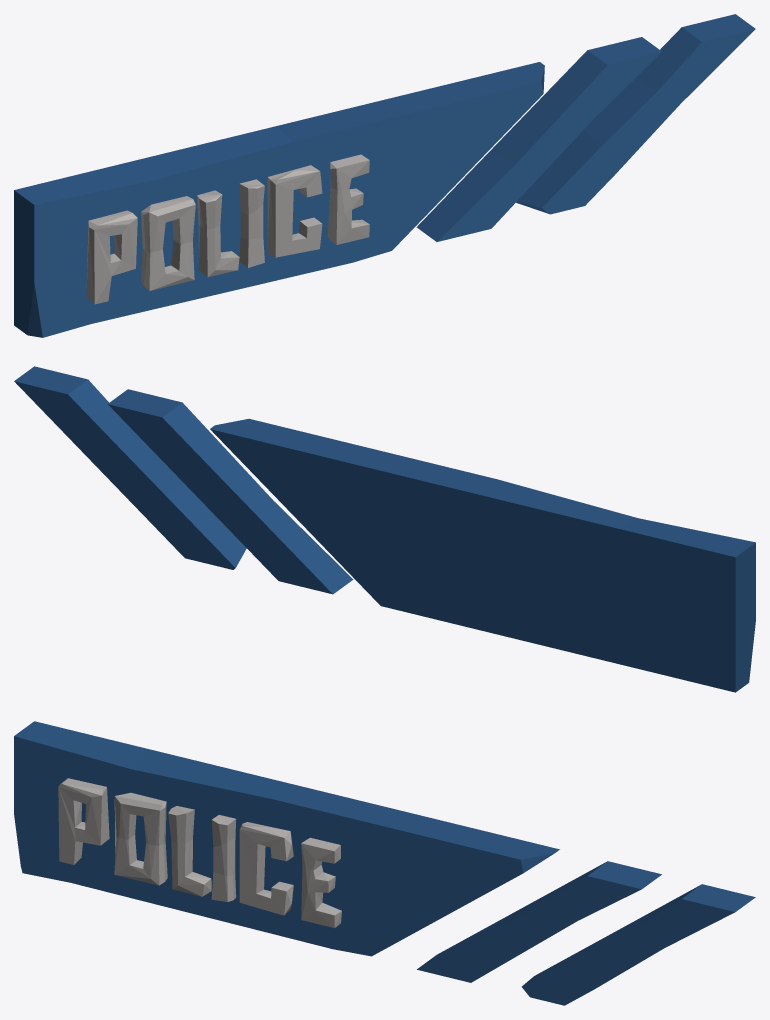
File: SM_Sign_Police_06.fbx
3 views of the same model, one above another, from view 1: azimuth 30°, elevation 25°; view 2: azimuth 150°, elevation 25°; view 3: azimuth 330°, elevation 25° (orthographic).
Visible parts, largest first — view 1: SM_Sign_Police_06; view 2: SM_Sign_Police_06; view 3: SM_Sign_Police_06.
Boxes of the visible parts, x1,y1,x2,y2 form: SM_Sign_Police_06: (14,14,755,337); SM_Sign_Police_06: (14,366,755,692); SM_Sign_Police_06: (14,721,755,1005).
Bounding box in the file's own units: 455 × 81.48 × 32.65.
